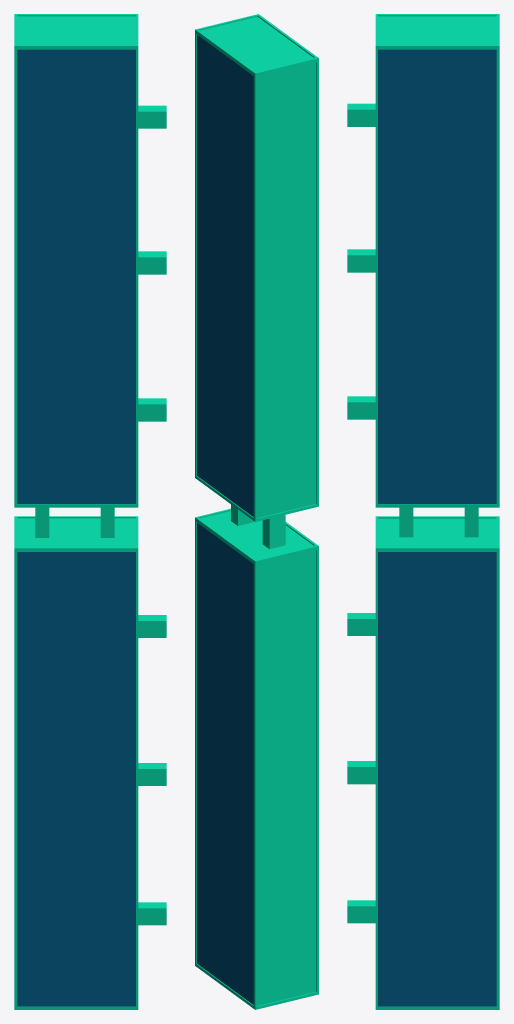
The model's file is Building_Sign_short (1).fbx.
The picture shows the model from 3 angles, left to right: view 1: azimuth 90°, elevation 25°; view 2: azimuth 210°, elevation 25°; view 3: azimuth 270°, elevation 25°; orthographic projection. The views are drawn at different scales.
Parts seen in each view (by area): view 1: polySurface626; view 2: polySurface626; view 3: polySurface626.
Boxes of the visible parts, x1=… form: polySurface626: x1=14, y1=14, x2=166, y2=1009; polySurface626: x1=195, y1=14, x2=318, y2=1009; polySurface626: x1=347, y1=14, x2=499, y2=1009.
Size of the model in its own units: 3.07 by 43.2 by 6.19.
